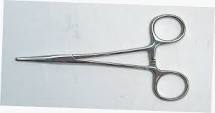mosquito clamp: (9, 10, 194, 103)
